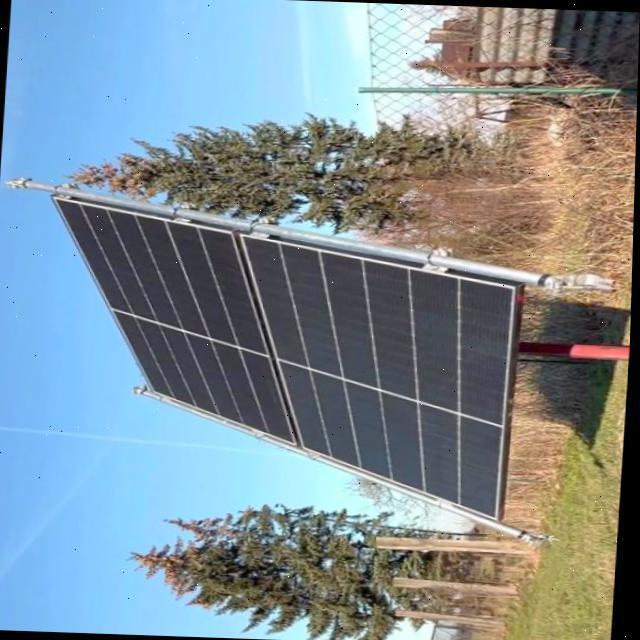Normal Solar Panel: (36, 196, 520, 520)
